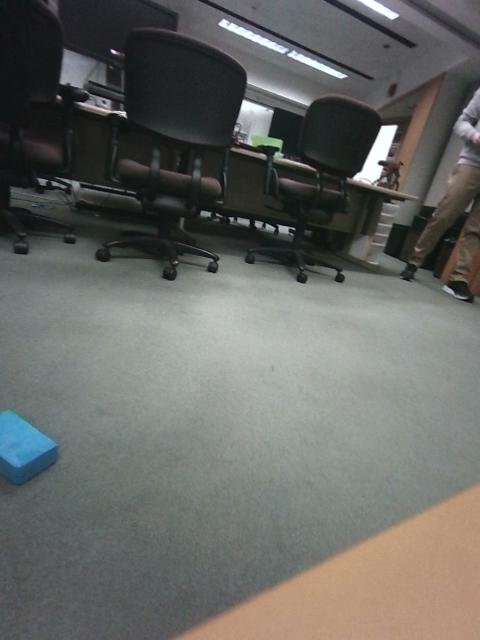block: (139, 331, 210, 367)
